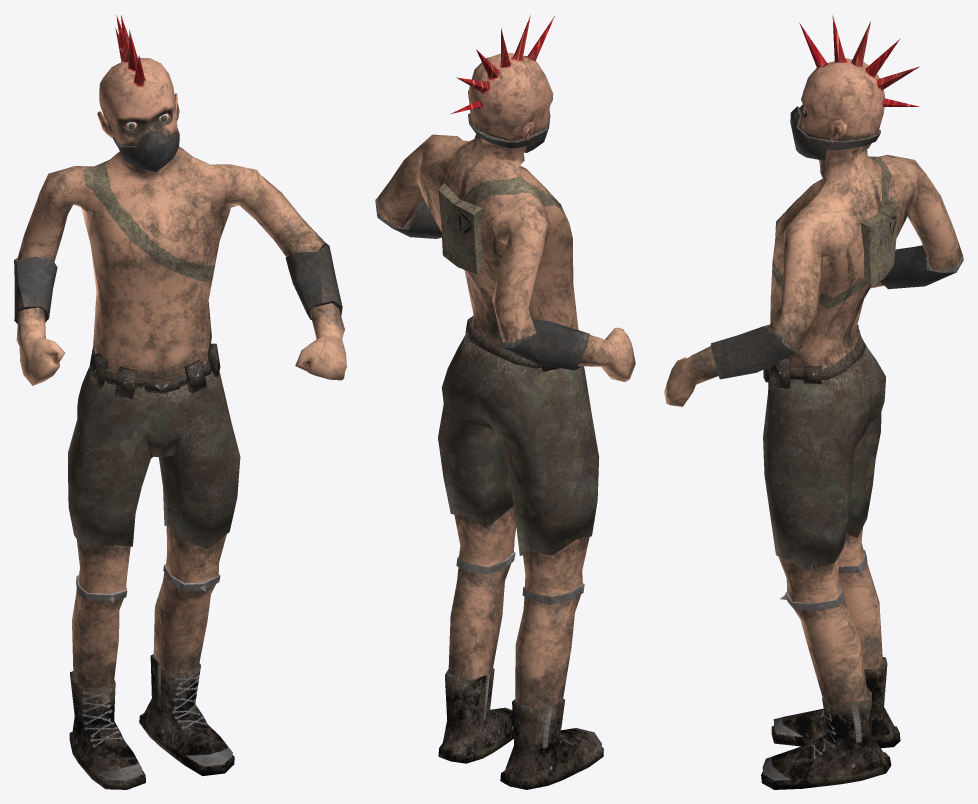
File: Anim_ataque_d2_npc2.0013.obj
3 renders of one model, left to right at view 1: azimuth 30°, elevation 25°; view 2: azimuth 150°, elevation 25°; view 3: azimuth 270°, elevation 25°, orthographic. The views are drawn at different scales.
Visible parts, largest first — view 1: polySurface1; view 2: polySurface1; view 3: polySurface1.
Part boxes in pixels (x1,y1,x2,y2): polySurface1: [14, 15, 346, 789]; polySurface1: [375, 15, 635, 789]; polySurface1: [664, 15, 963, 789].
Size of the model in its own units: 4 by 10.14 by 3.72.
